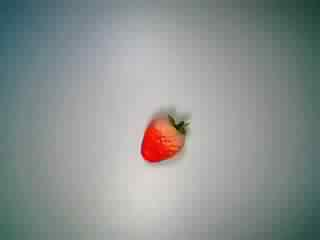strawberry: (129, 109, 197, 173)
